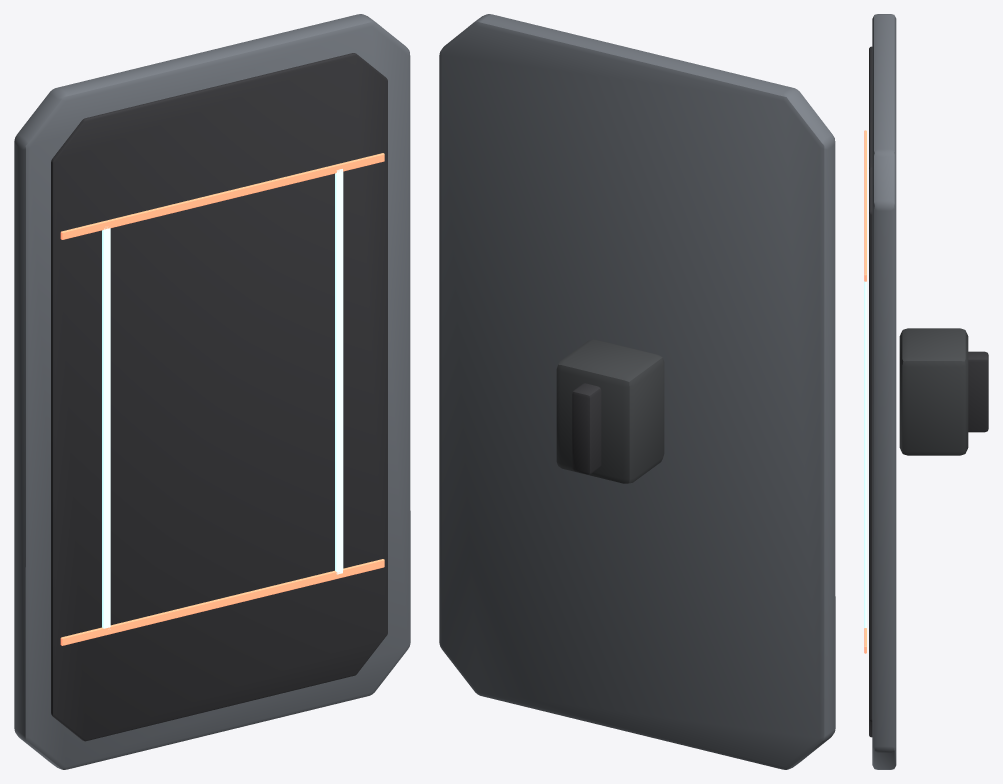
File: deflection.glb
The picture shows the model from 3 angles, left to right: view 1: azimuth 30°, elevation 25°; view 2: azimuth 150°, elevation 25°; view 3: azimuth 270°, elevation 25°; orthographic projection. The views are drawn at different scales.
Visible parts, largest first — view 1: Body; view 2: Body; view 3: Body.
Part boxes in pixels (x1,y1,x2,y2): Body: [14, 14, 410, 769]; Body: [439, 14, 835, 769]; Body: [864, 14, 988, 769].
Size of the model in its own units: 0.6 by 1 by 0.182.
